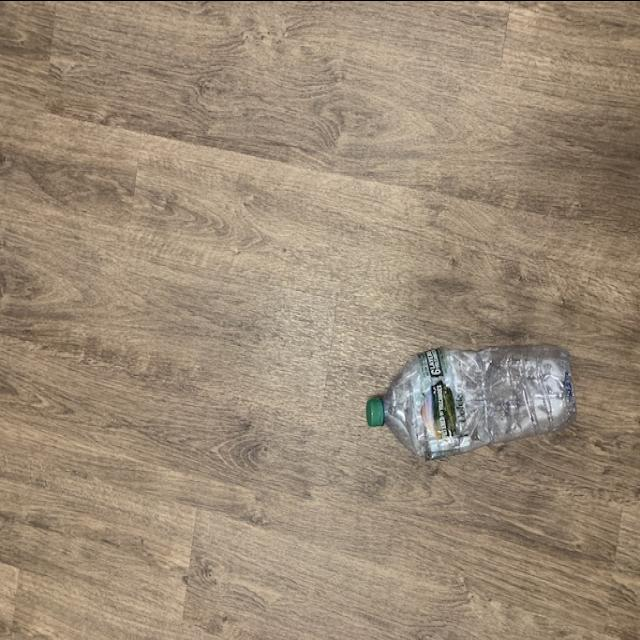litter: (364, 333, 576, 462)
